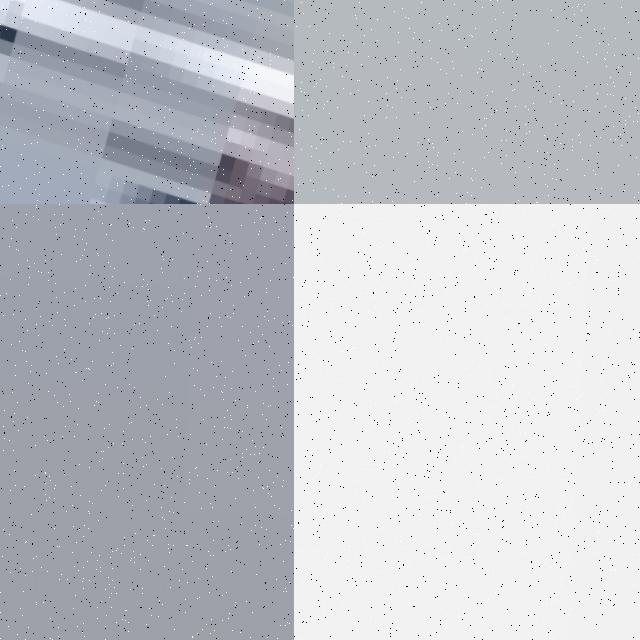drone: (0, 0, 294, 204)
